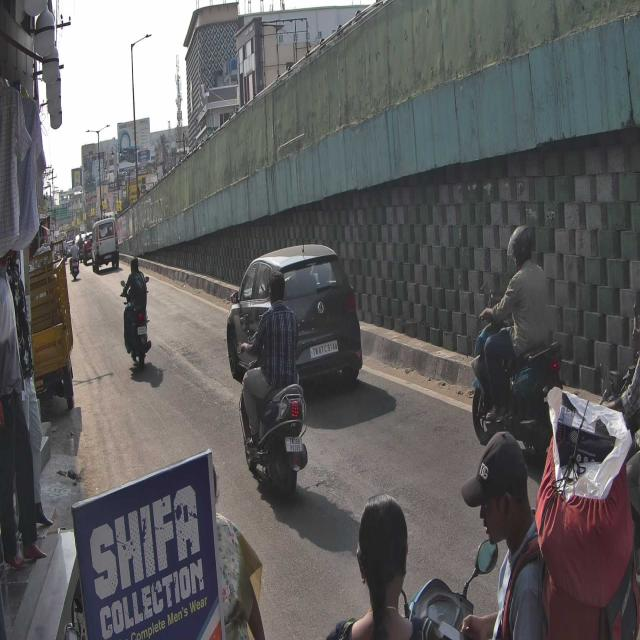single_rider: (471, 219, 563, 469), (237, 268, 314, 496)
